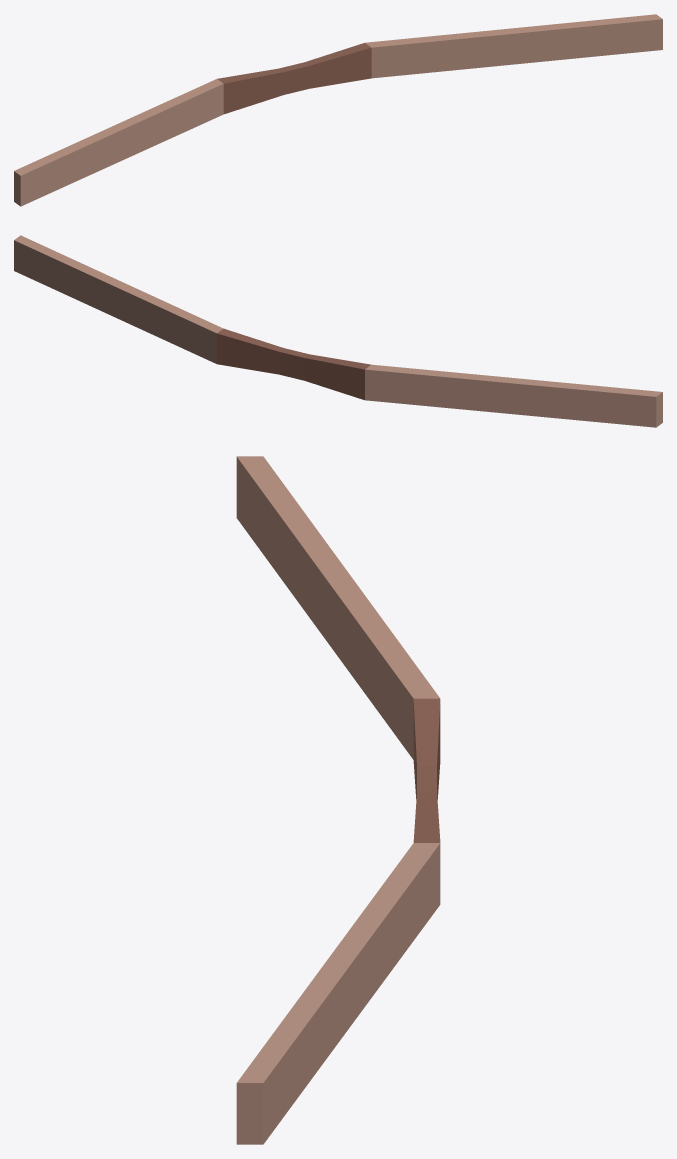
Rendered from PlankBow.fbx.
The picture shows the model from 3 angles, top to bottom: view 1: azimuth 30°, elevation 25°; view 2: azimuth 150°, elevation 25°; view 3: azimuth 270°, elevation 25°; orthographic projection. The views are drawn at different scales.
Visible parts, largest first — view 1: Cube.001; view 2: Cube.001; view 3: Cube.001.
Part boxes in pixels (x1,y1,x2,y2): Cube.001: [14, 14, 662, 206]; Cube.001: [14, 235, 662, 427]; Cube.001: [236, 456, 440, 1144].
Size of the model in its own units: 178 by 8.31 by 24.52.
